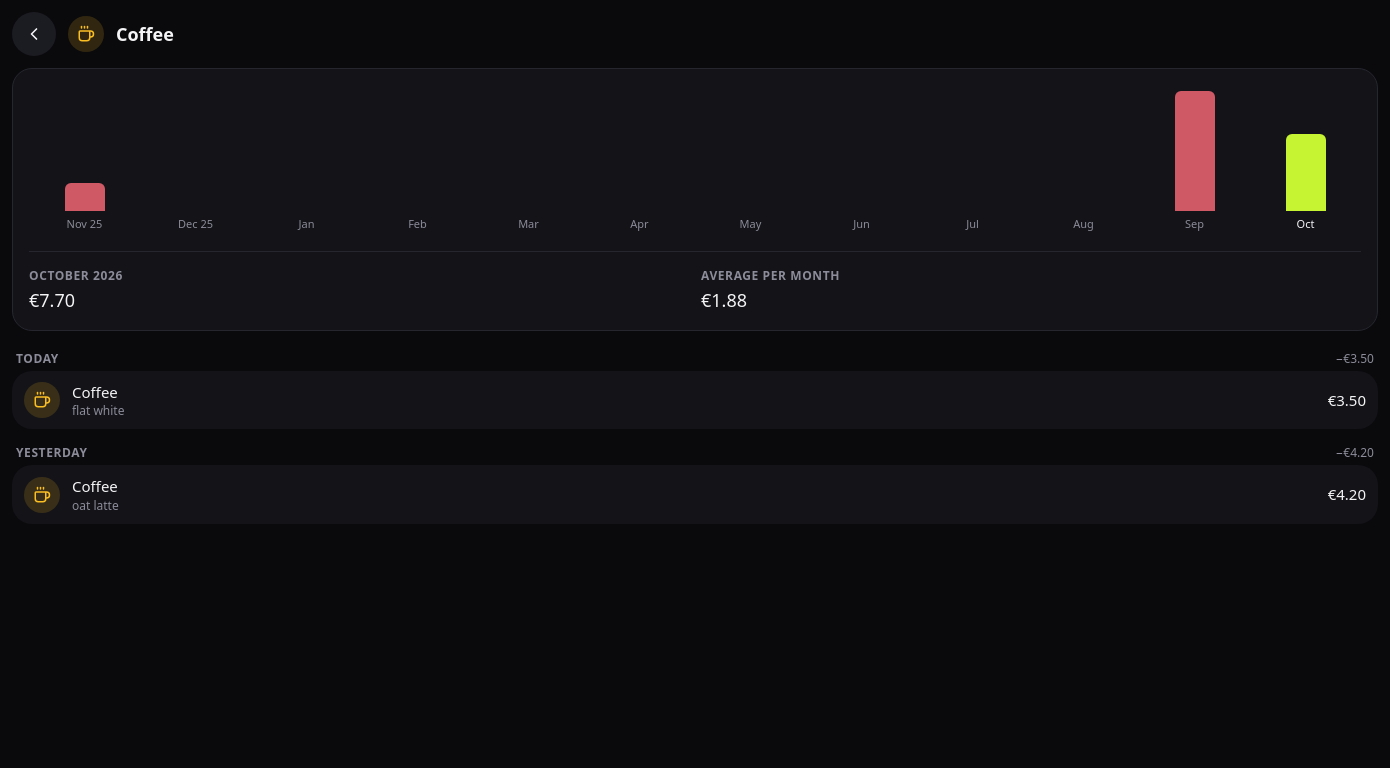
Test: CategoryPage › switches the list to the month of the tapped bar
The image size is (1390, 768).
Click the button with aria-label "Sep:": (1194, 160) x1=1139 y1=85 x2=1250 y2=235
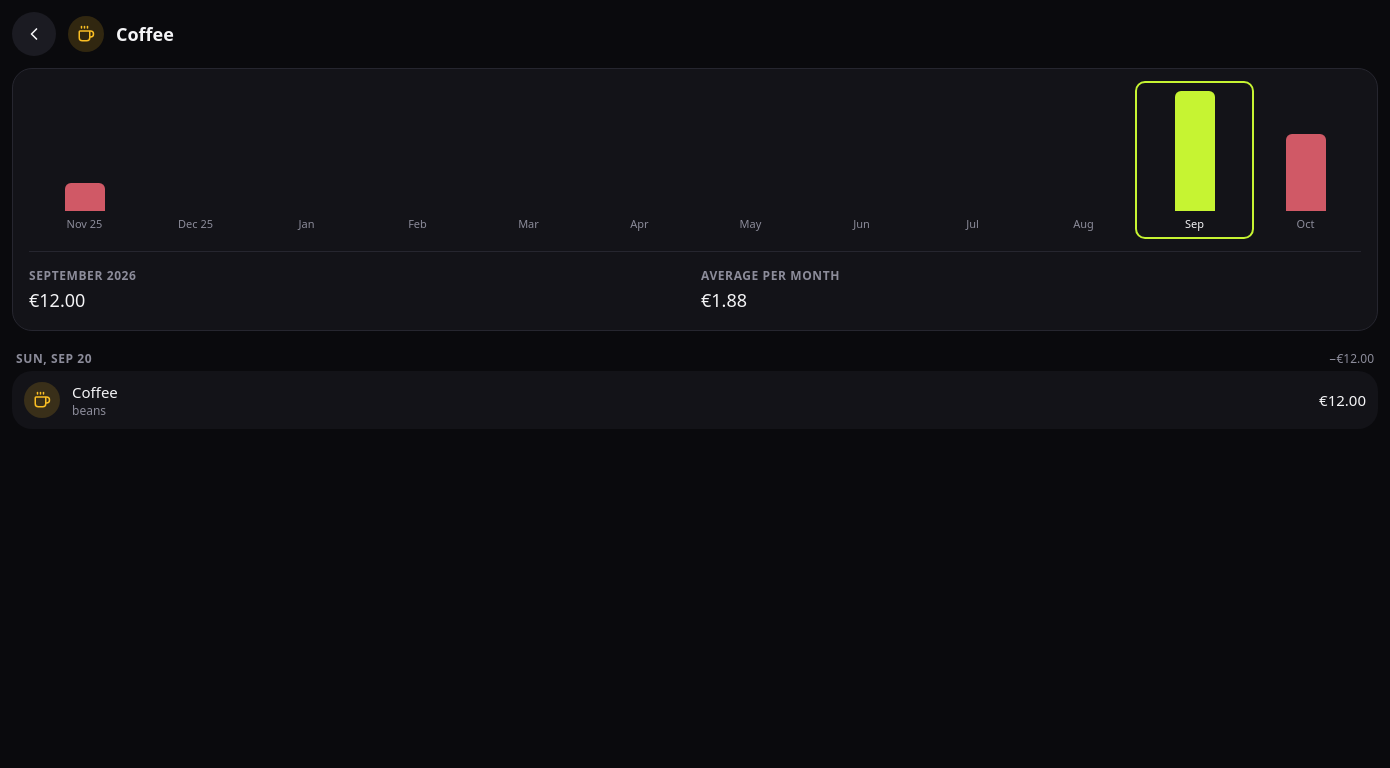
Click the button with aria-label "Dec 25:": (196, 160) x1=140 y1=85 x2=251 y2=235
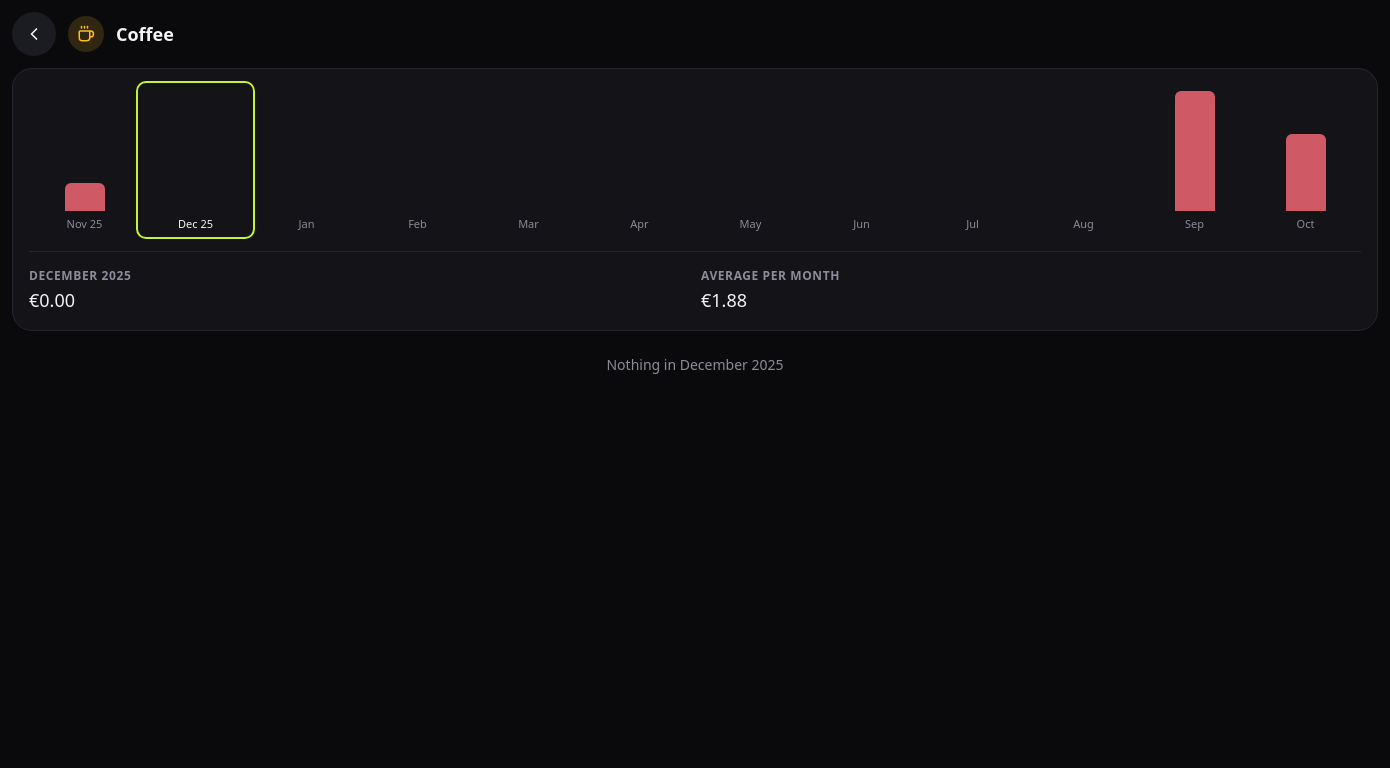
Check: the text "Nothing in December 2025" is shown, box x1=606 y1=355 x2=784 y2=374
